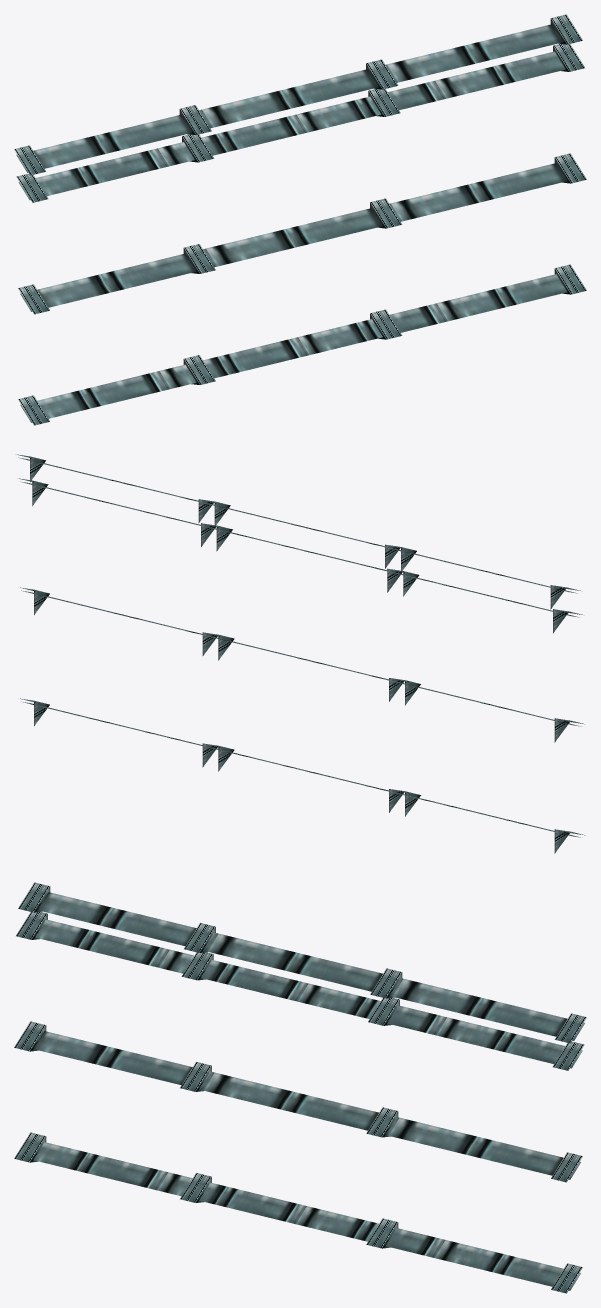
The model's file is Rohr_Vierfach_775.glb.
The picture shows the model from 3 angles, top to bottom: view 1: azimuth 30°, elevation 25°; view 2: azimuth 150°, elevation 25°; view 3: azimuth 330°, elevation 25°; orthographic projection.
Parts seen in each view (by area): view 1: pCylinderShape97, pCylinderShape112, pCylinderShape107, pCylinderShape102, pCylinderShape108, pCylinderShape98, pCylinderShape100, pCylinderShape101, pCylinderShape109, pCylinderShape113, pCylinderShape115, pCylinderShape110 (+4 smaller); view 2: pCylinderShape107, pCylinderShape97, pCylinderShape102, pCylinderShape112; view 3: pCylinderShape97, pCylinderShape112, pCylinderShape102, pCylinderShape107, pCylinderShape111, pCylinderShape101, pCylinderShape99, pCylinderShape110, pCylinderShape116, pCylinderShape115, pCylinderShape109, pCylinderShape100 (+4 smaller).
Boxes of the visible parts, left/top/right/bottom form: pCylinderShape97: left=16, top=24, right=563, bottom=172; pCylinderShape112: left=20, top=274, right=567, bottom=422; pCylinderShape107: left=20, top=163, right=567, bottom=311; pCylinderShape102: left=18, top=51, right=565, bottom=200; pCylinderShape108: left=554, top=153, right=586, bottom=183; pCylinderShape98: left=550, top=14, right=582, bottom=44; pCylinderShape100: left=179, top=105, right=211, bottom=134; pCylinderShape101: left=366, top=59, right=398, bottom=89; pCylinderShape109: left=183, top=244, right=215, bottom=273; pCylinderShape113: left=554, top=264, right=586, bottom=294; pCylinderShape115: left=370, top=309, right=402, bottom=339; pCylinderShape110: left=370, top=198, right=401, bottom=228; pCylinderShape107: left=21, top=590, right=581, bottom=726; pCylinderShape97: left=18, top=457, right=576, bottom=593; pCylinderShape102: left=20, top=481, right=578, bottom=617; pCylinderShape112: left=21, top=701, right=580, bottom=837; pCylinderShape97: left=37, top=892, right=584, bottom=1040; pCylinderShape112: left=33, top=1142, right=580, bottom=1290; pCylinderShape102: left=35, top=919, right=582, bottom=1068; pCylinderShape107: left=33, top=1031, right=580, bottom=1179; pCylinderShape111: left=14, top=1021, right=46, bottom=1051; pCylinderShape101: left=370, top=968, right=402, bottom=998; pCylinderShape99: left=18, top=882, right=50, bottom=912; pCylinderShape110: left=366, top=1107, right=398, bottom=1137; pCylinderShape116: left=14, top=1132, right=46, bottom=1162; pCylinderShape115: left=366, top=1218, right=398, bottom=1248; pCylinderShape109: left=180, top=1062, right=211, bottom=1091; pCylinderShape100: left=184, top=923, right=215, bottom=952.
Bounding box in the file's own units: 1 × 0.4705 × 0.0638.
20 materials, 20 textured.
